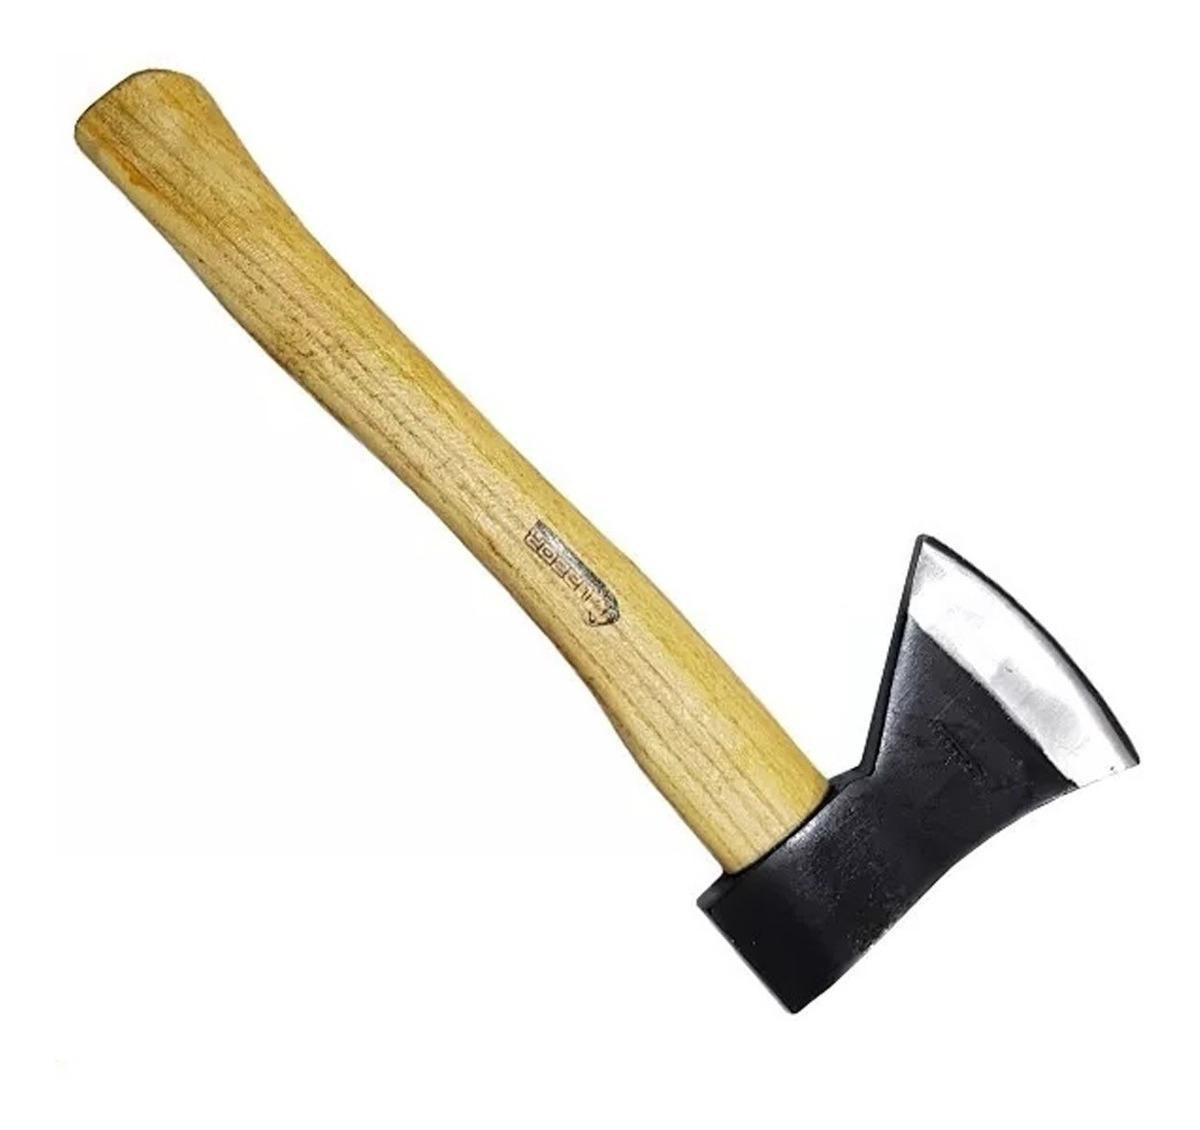machado: (75, 70, 1137, 1011)
